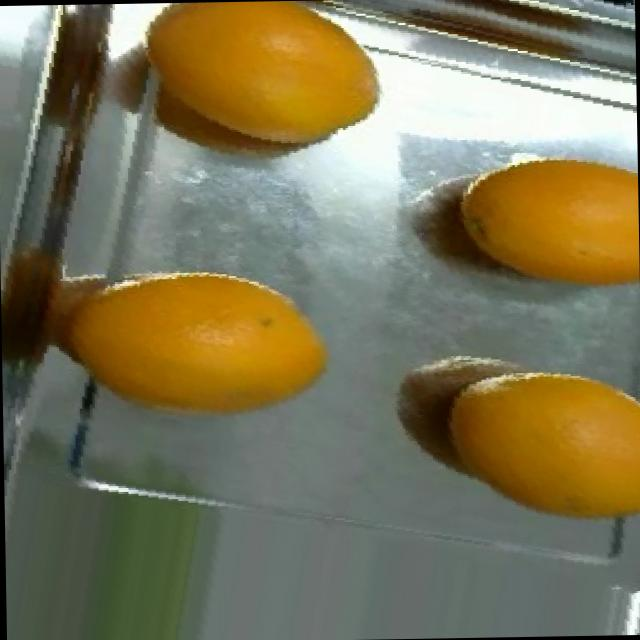Fruit: (449, 344, 640, 545), (451, 134, 640, 308)
